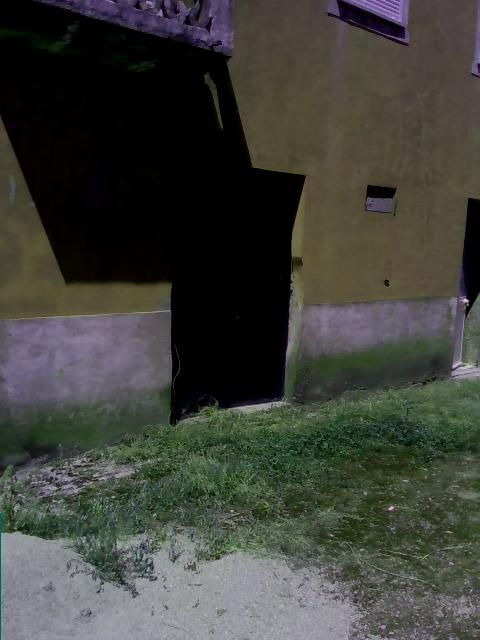closed_door: (170, 158, 305, 429)
